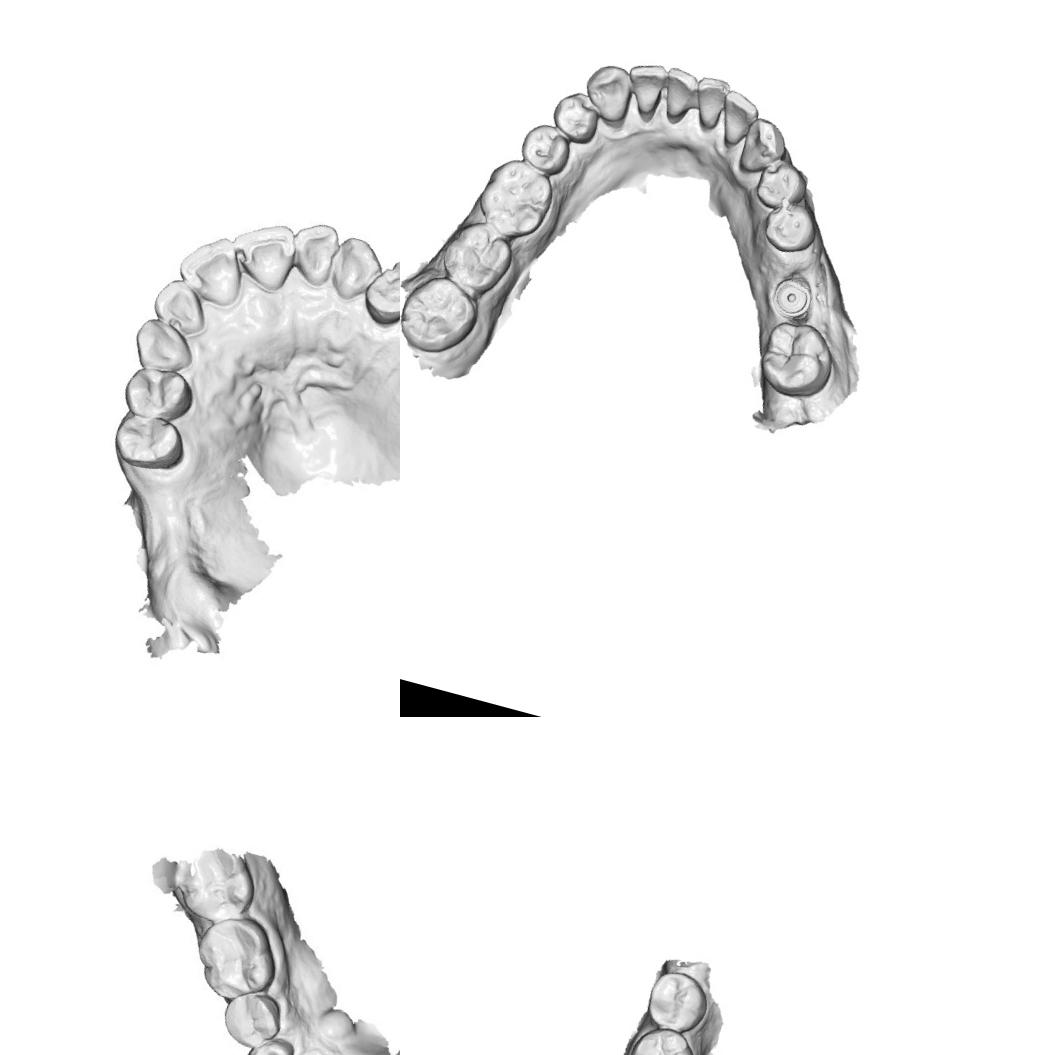canine: (122, 310, 202, 379), (324, 232, 385, 304), (576, 58, 638, 128), (734, 112, 792, 180)
implant: (768, 271, 816, 320)
incisor: (174, 230, 250, 306), (236, 216, 300, 285), (147, 276, 212, 338), (287, 222, 346, 288), (617, 56, 669, 122), (712, 88, 762, 150), (654, 63, 701, 126), (686, 72, 730, 132)
molar: (186, 907, 285, 1010), (470, 150, 560, 244), (752, 314, 843, 405), (173, 839, 266, 928), (400, 266, 485, 362), (434, 212, 520, 302), (640, 966, 713, 1038), (618, 1019, 702, 1055)
premolar: (105, 406, 188, 476), (218, 986, 284, 1052), (757, 194, 822, 259), (120, 361, 188, 423), (355, 250, 400, 336), (514, 116, 576, 178), (751, 155, 812, 216), (546, 86, 604, 146), (235, 1033, 293, 1055)
